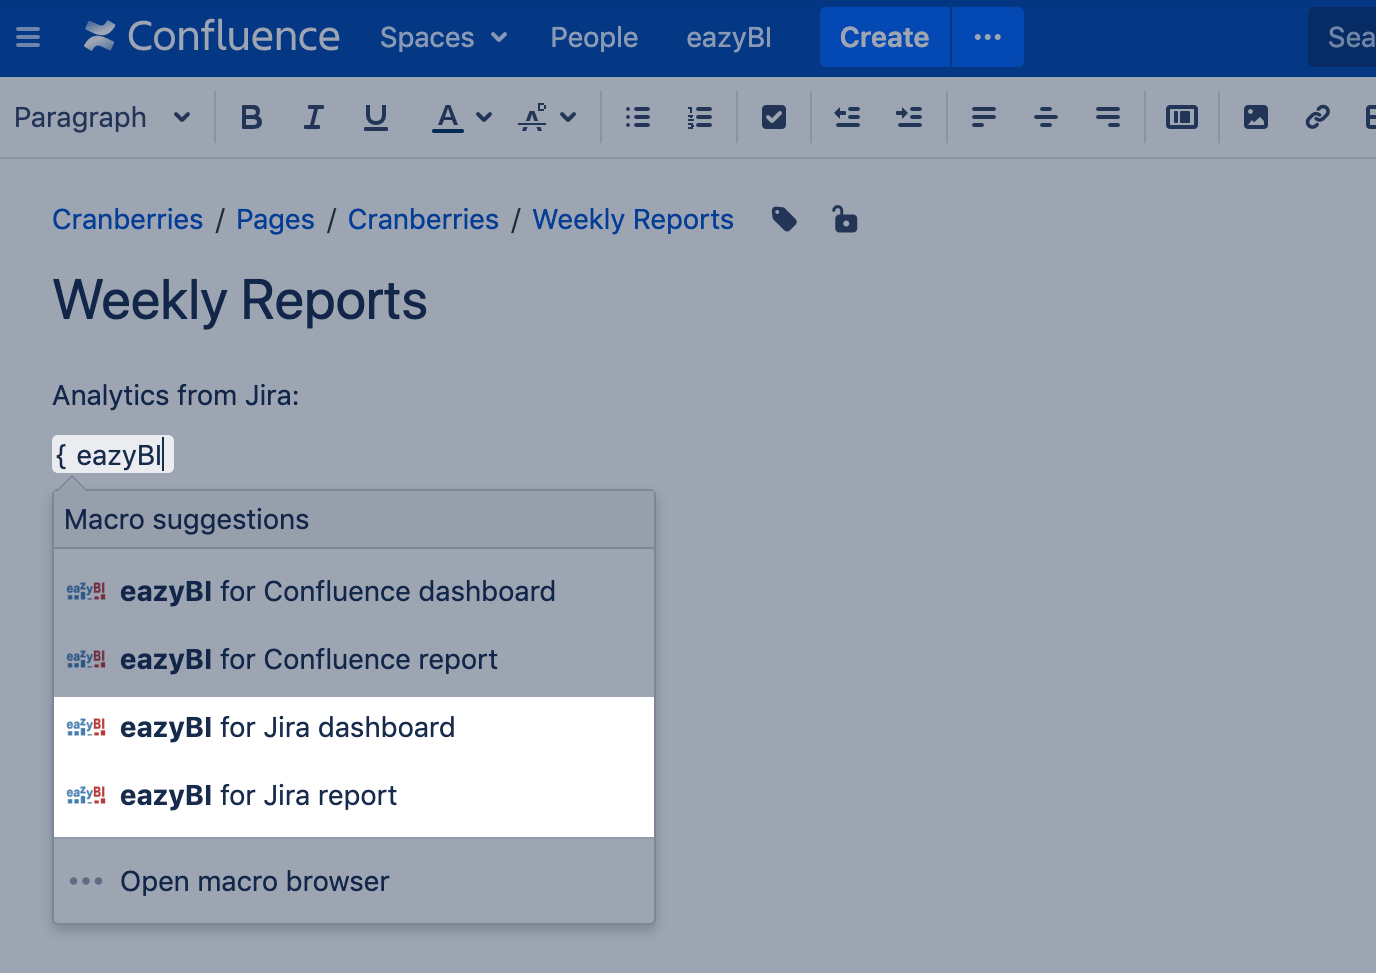button_create: (817, 4, 948, 67)
